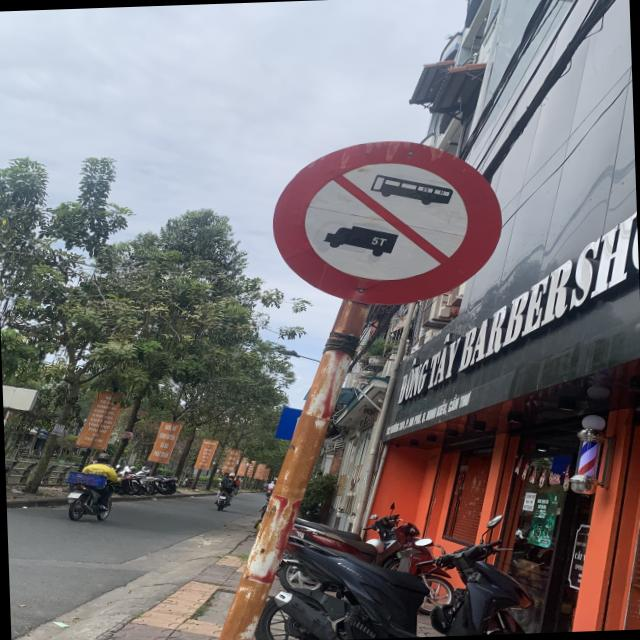Cam_XeTai_XeKhach: (268, 134, 504, 312)
